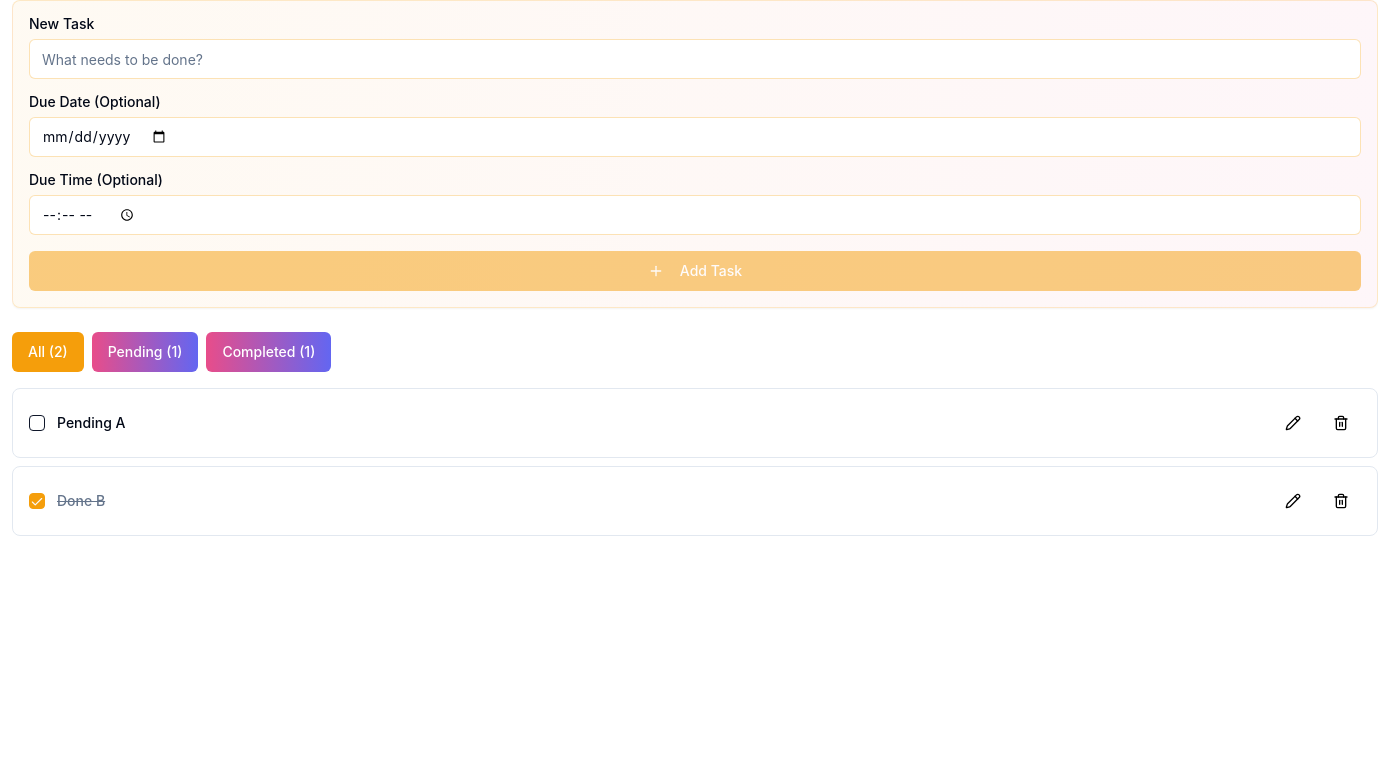
Test case: TaskList › filters to pending tasks only when Pending clicked
Click the button "Pending (1)" at (145, 352), box [92,332,198,372]
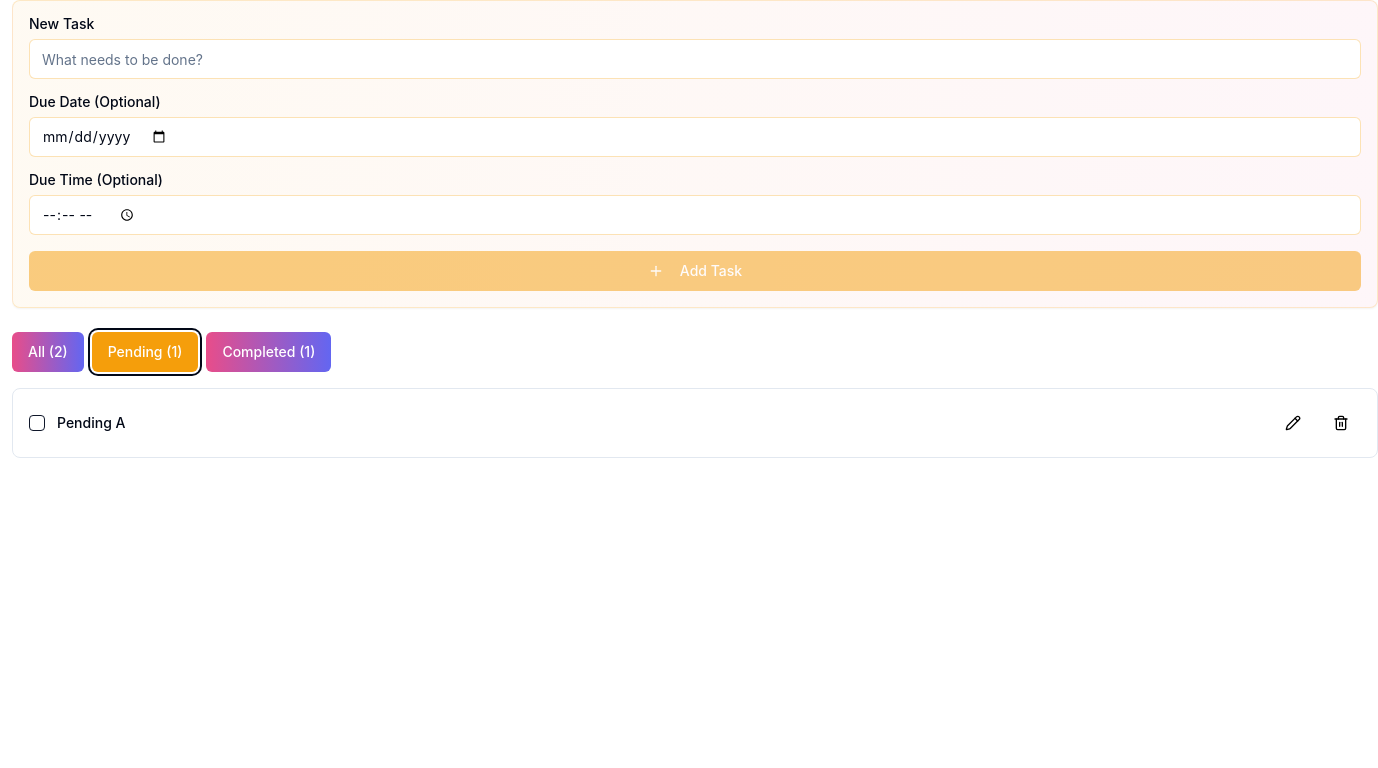
Expected: the text "Pending A" is shown, [57,414,126,431]
Now the text "Done B" is gone
